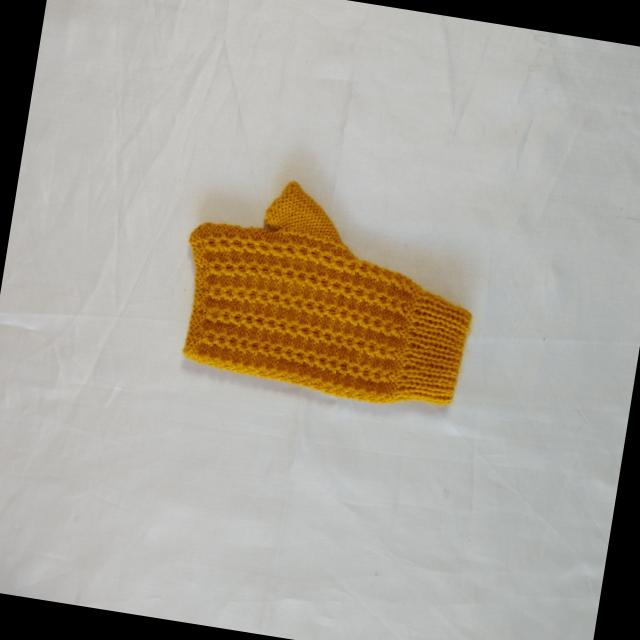Guante: (167, 165, 490, 418)
